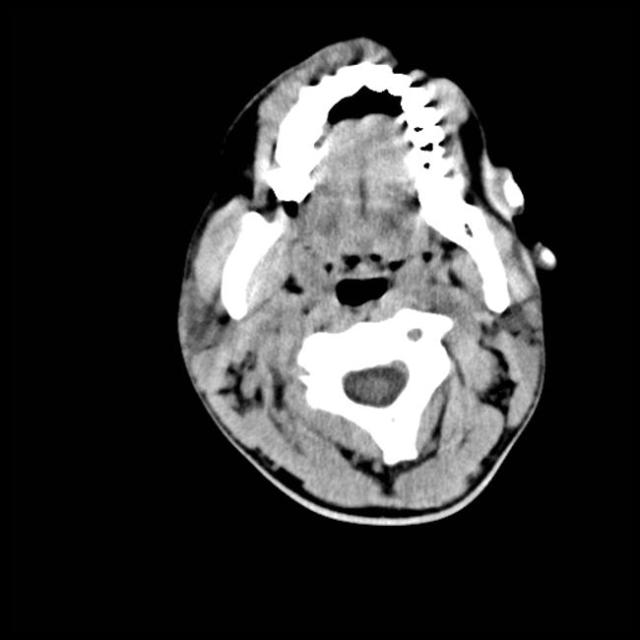lesion: (173, 35, 560, 527)
